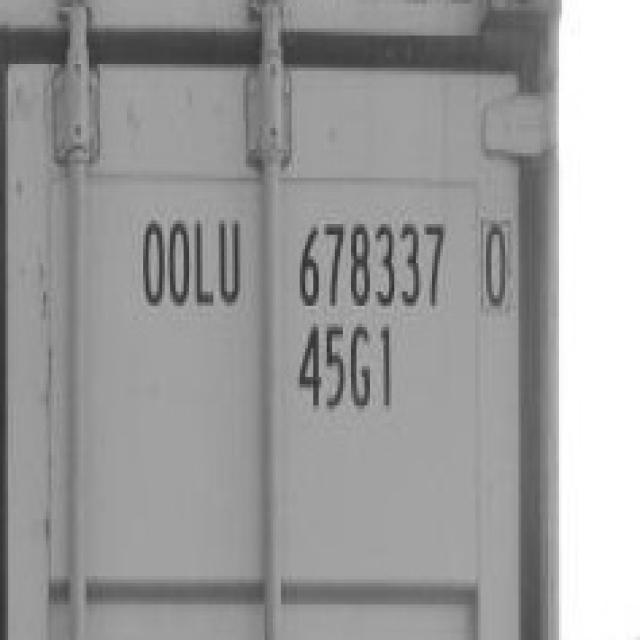dv: (471, 211, 519, 309)
owner: (123, 200, 246, 313)
serial: (288, 212, 447, 314)
size: (287, 322, 410, 423)
